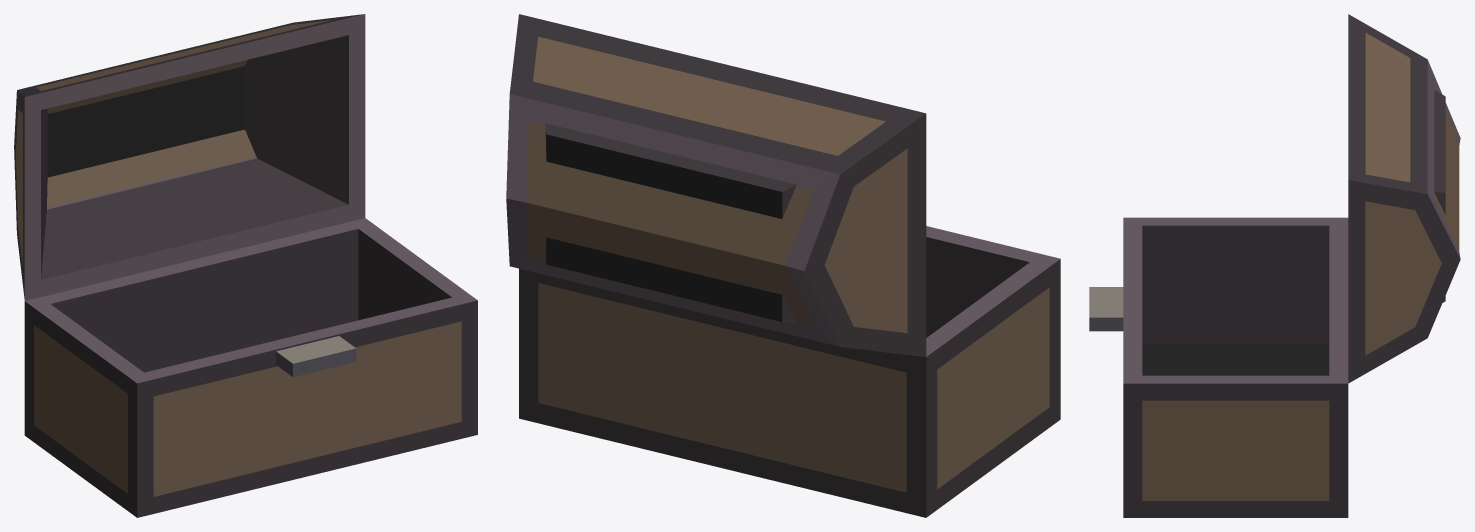
Rendered from TB_D_Prop_ChestC_Open_A.FBX.
3 renders of one model, left to right at view 1: azimuth 30°, elevation 25°; view 2: azimuth 150°, elevation 25°; view 3: azimuth 270°, elevation 25°, orthographic. The views are drawn at different scales.
Parts seen in each view (by area): view 1: TB_D_Prop_ChestC_Open_A; view 2: TB_D_Prop_ChestC_Open_A; view 3: TB_D_Prop_ChestC_Open_A.
Boxes of the visible parts, box(x1,y1,x2,y2) form: TB_D_Prop_ChestC_Open_A: box(14, 14, 477, 517); TB_D_Prop_ChestC_Open_A: box(506, 14, 1060, 517); TB_D_Prop_ChestC_Open_A: box(1089, 14, 1460, 517).
Bounding box in the file's own units: 1.05 × 0.9932 × 0.9887.
